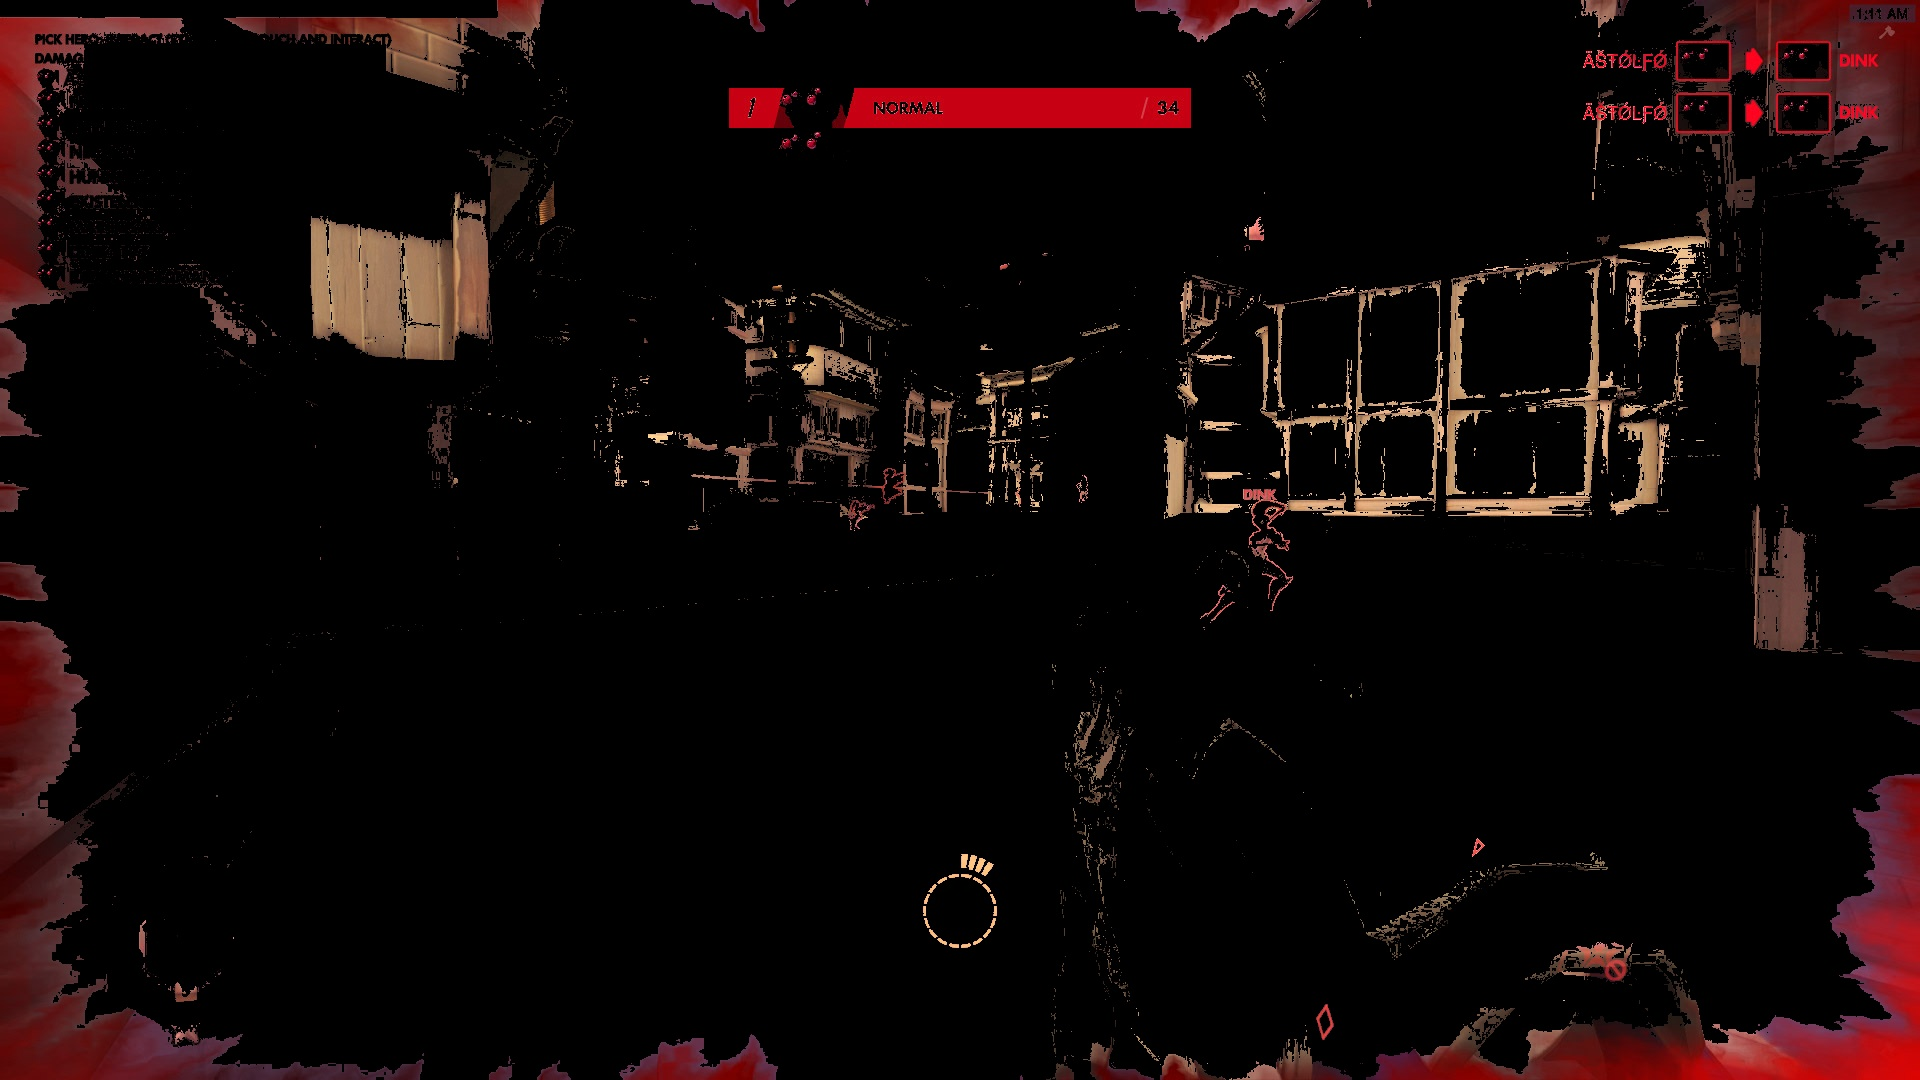widowmaker: (1222, 502, 1298, 615), (880, 467, 905, 506), (848, 498, 873, 535), (1073, 473, 1092, 506)
